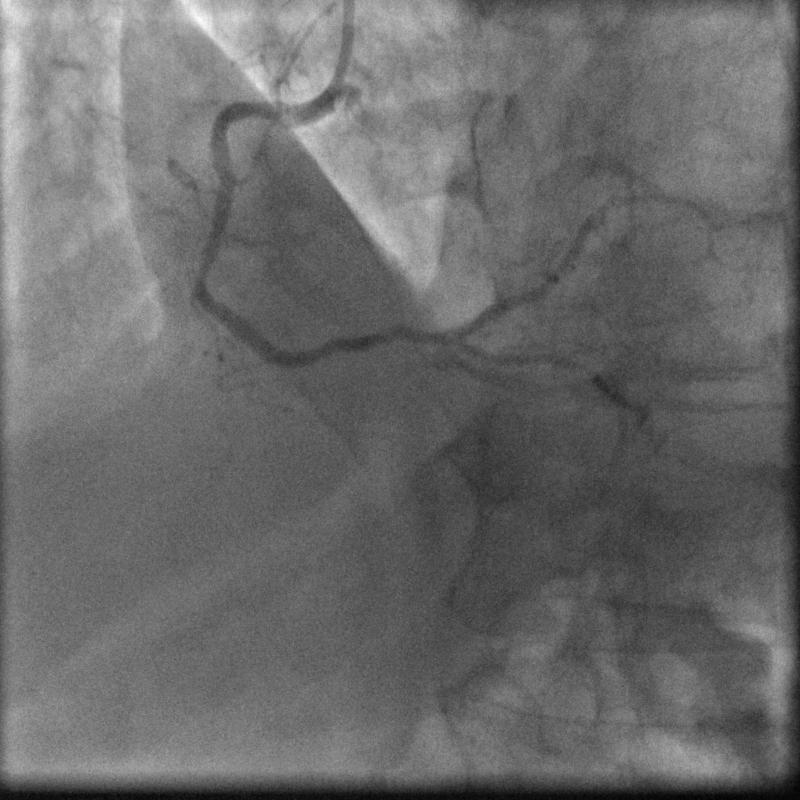Stenosis: (191, 262, 214, 284)
